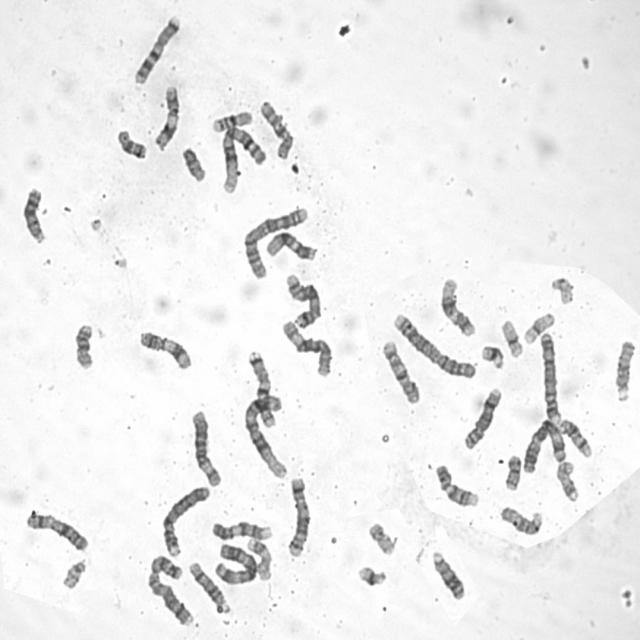A1: (239, 391, 289, 480), (217, 122, 268, 195)
A2: (389, 309, 478, 381), (240, 203, 310, 280)
A3: (519, 415, 568, 475), (211, 540, 258, 586)
B4: (158, 481, 211, 559), (536, 328, 562, 424)
B5: (282, 269, 322, 330), (283, 473, 311, 558)
C10: (378, 336, 422, 406), (256, 96, 294, 161)
C11: (136, 326, 193, 372), (150, 81, 181, 152)
C12: (437, 273, 477, 338), (263, 228, 318, 262)
C6: (278, 316, 333, 378), (188, 406, 224, 488)
C7: (129, 11, 182, 86), (244, 346, 278, 430)
C8: (145, 570, 196, 628), (460, 384, 503, 452)
C9: (432, 460, 481, 509), (207, 516, 274, 542)
D13: (428, 546, 466, 602), (19, 183, 46, 245)
D14: (186, 558, 232, 615), (555, 415, 594, 459)
D15: (497, 502, 544, 538), (611, 336, 636, 403)
E16: (208, 106, 254, 133), (146, 553, 185, 581)
E17: (244, 534, 272, 582), (553, 457, 580, 503)
E18: (113, 125, 148, 161), (70, 320, 95, 370)
F19: (520, 308, 556, 346), (498, 316, 524, 360)
F20: (365, 518, 397, 556), (501, 451, 523, 492)
G21: (354, 561, 388, 588), (478, 342, 506, 371)
G22: (548, 272, 576, 306), (59, 556, 87, 590)
X: (21, 508, 90, 553)
Y: (178, 142, 208, 184)
